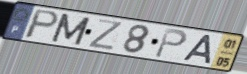8: (121, 24, 151, 55)
A: (181, 34, 214, 66)
M: (49, 12, 93, 47)
P: (22, 8, 61, 40), (153, 27, 189, 60)
Z: (86, 18, 125, 52)
